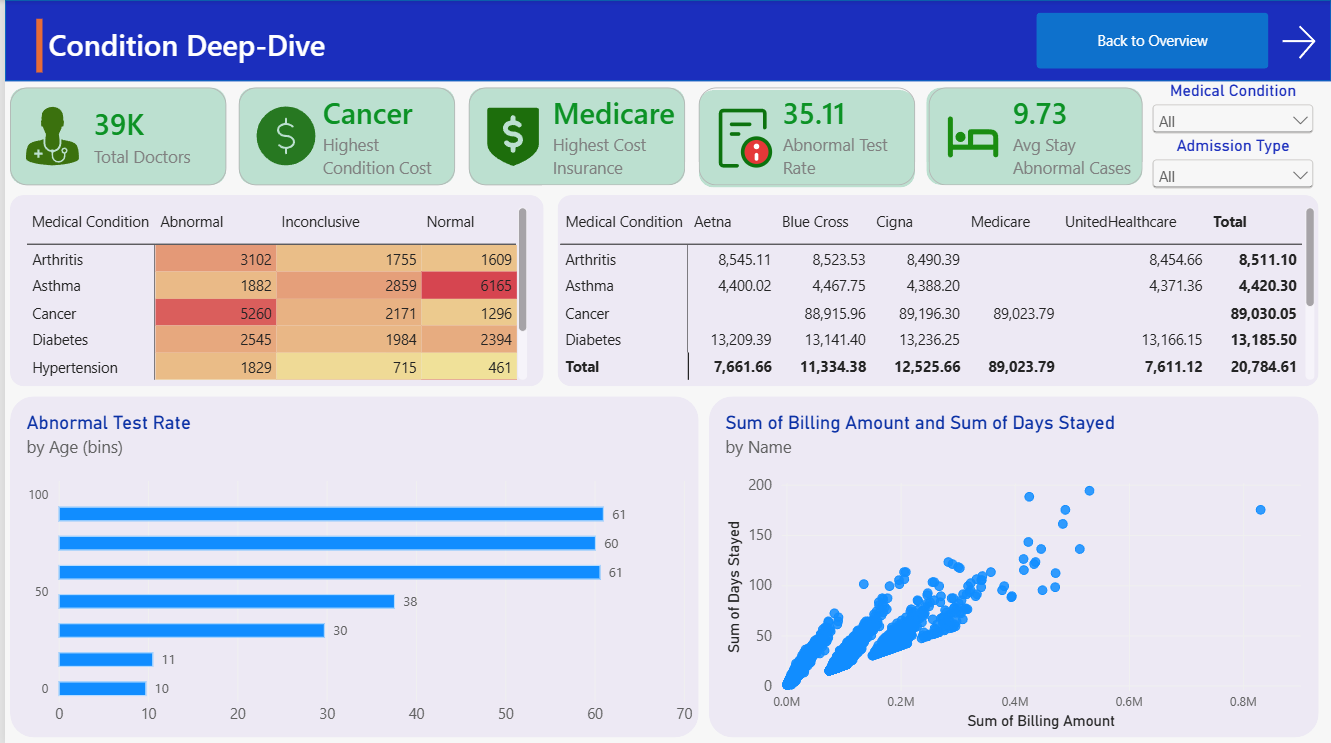

The page's visual inventory and layout, read from the dashboard file:
{"tool":"powerbi","page":{"name":"Condition Deep-Dive","canvas":[1280,720],"ordinal":1},"visuals":[{"type":"shape","box":[533.2,188.2,734.7,184.6],"z":0},{"type":"shape","box":[4.8,188.2,515.2,184.6],"z":1000},{"type":"shape","box":[679.2,382.4,588.7,329.4],"z":2000},{"type":"shape","box":[4.8,382.4,664.7,329.4],"z":3000},{"type":"shape","box":[4.8,84.5,208.7,94.1],"z":4000},{"type":"shape","box":[225.6,84.5,208.7,94.1],"z":5000},{"type":"shape","box":[447.6,84.5,208.7,94.1],"z":6000},{"type":"shape","box":[669.6,86.9,208.7,94.1],"z":7000},{"type":"shape","box":[889.1,84.5,208.7,94.1],"z":8000},{"type":"shape","box":[0,0,1280,78.4],"z":9000},{"type":"cardVisual","fields":{"Data":["All Measures.Abnormal Test Rate"]},"box":[669.4,84.9,209,94],"z":10000},{"type":"cardVisual","fields":{"Data":["All Measures.Avg Stay Abnormal Cases"]},"box":[891.6,84.5,206.3,94.1],"z":11000},{"type":"slicer","title":"Medical Condition","fields":{"Values":["healthcare_data_clean.Medical Condition"]},"box":[1102.7,78.4,165.3,60.3],"z":12000},{"type":"pivotTable","fields":{"Columns":["healthcare_data_clean.Test Results1"],"Rows":["healthcare_data_clean.Medical Condition1"],"Values":["CountNonNull(healthcare_data_clean.Name)"]},"box":[4.8,185.8,515.2,196.6],"z":13000},{"type":"slicer","title":"Admission Type","fields":{"Values":["healthcare_data_clean.Admission Type"]},"box":[1102.7,131.5,165.3,56.7],"z":14000},{"type":"barChart","fields":{"Category":["healthcare_data_clean.Age (bins)"],"Y":["All Measures.Abnormal Test Rate"]},"box":[4.8,382.4,674.4,337.8],"z":15000},{"type":"scatterChart","fields":{"X":["Sum(healthcare_data_clean.Billing Amount)"],"Y":["Sum(healthcare_data_clean.Days Stayed)"],"Category":["healthcare_data_clean.Name"]},"box":[679.2,382.4,600.8,337.8],"z":16000},{"type":"cardVisual","fields":{"Data":["All Measures.Highest Condition Cost"]},"box":[226.1,84.9,209,94],"z":17000},{"type":"cardVisual","fields":{"Data":["All Measures.Highest Cost Insurance"]},"box":[447.8,84.9,209,94],"z":18000},{"type":"pivotTable","fields":{"Columns":["healthcare_data_clean.Insurance Provider"],"Rows":["healthcare_data_clean.Medical Condition"],"Values":["Avg(healthcare_data_clean.Billing Amount)"]},"box":[520,185.8,760.1,196.6],"z":19000},{"type":"cardVisual","fields":{"Data":["All Measures.Total Doctors"]},"box":[4.4,84.9,209,94],"z":20000},{"type":"cardVisual","fields":{"Data":["All Measures.Condition Page Title"]},"box":[0,15.7,587.5,54.3],"z":21000},{"type":"actionButton","box":[995.3,12.1,224.4,54.3],"z":22000},{"type":"actionButton","box":[1217.3,12.1,62.7,57.9],"z":23000},{"type":"image","box":[13.3,102.5,71.2,57.9],"z":24000},{"type":"image","box":[669.6,101.3,84.5,63.9],"z":25000},{"type":"image","box":[889.1,102.5,90.5,59.1],"z":26000},{"type":"image","box":[447.6,90.5,85.7,80.8],"z":27000},{"type":"image","box":[225.6,96.5,91.7,68.8],"z":28000},{"type":"shape","box":[4.8,18.1,56.7,51.9],"z":29000}]}

Visuals, with their boxes in screenshot pixels (x1, y1, x2, y2), scaled from the page's 1280x720 canvas onto the 1331x743 screenshot:
shape: <bbox>554, 194, 1318, 385</bbox>
shape: <bbox>5, 194, 541, 385</bbox>
shape: <bbox>706, 395, 1318, 735</bbox>
shape: <bbox>5, 395, 696, 735</bbox>
shape: <bbox>5, 87, 222, 184</bbox>
shape: <bbox>235, 87, 452, 184</bbox>
shape: <bbox>465, 87, 682, 184</bbox>
shape: <bbox>696, 90, 913, 187</bbox>
shape: <bbox>925, 87, 1142, 184</bbox>
shape: <bbox>0, 0, 1330, 81</bbox>
cardVisual - All Measures.Abnormal Test Rate: <bbox>696, 88, 913, 185</bbox>
cardVisual - All Measures.Avg Stay Abnormal Cases: <bbox>927, 87, 1142, 184</bbox>
"Medical Condition" slicer: <bbox>1147, 81, 1319, 143</bbox>
pivotTable - healthcare_data_clean.Test Results1 x healthcare_data_clean.Medical Condition1: <bbox>5, 192, 541, 395</bbox>
"Admission Type" slicer: <bbox>1147, 136, 1319, 194</bbox>
barChart - healthcare_data_clean.Age (bins) x All Measures.Abnormal Test Rate: <bbox>5, 395, 706, 742</bbox>
scatterChart - Sum(healthcare_data_clean.Billing Amount) x Sum(healthcare_data_clean.Days Stayed): <bbox>706, 395, 1330, 742</bbox>
cardVisual - All Measures.Highest Condition Cost: <bbox>235, 88, 452, 185</bbox>
cardVisual - All Measures.Highest Cost Insurance: <bbox>466, 88, 683, 185</bbox>
pivotTable - healthcare_data_clean.Insurance Provider x healthcare_data_clean.Medical Condition: <bbox>541, 192, 1330, 395</bbox>
cardVisual - All Measures.Total Doctors: <bbox>5, 88, 222, 185</bbox>
cardVisual - All Measures.Condition Page Title: <bbox>0, 16, 611, 72</bbox>
actionButton: <bbox>1035, 12, 1268, 69</bbox>
actionButton: <bbox>1266, 12, 1330, 72</bbox>
image: <bbox>14, 106, 88, 166</bbox>
image: <bbox>696, 105, 784, 170</bbox>
image: <bbox>925, 106, 1019, 167</bbox>
image: <bbox>465, 93, 555, 177</bbox>
image: <bbox>235, 100, 330, 171</bbox>
shape: <bbox>5, 19, 64, 72</bbox>
